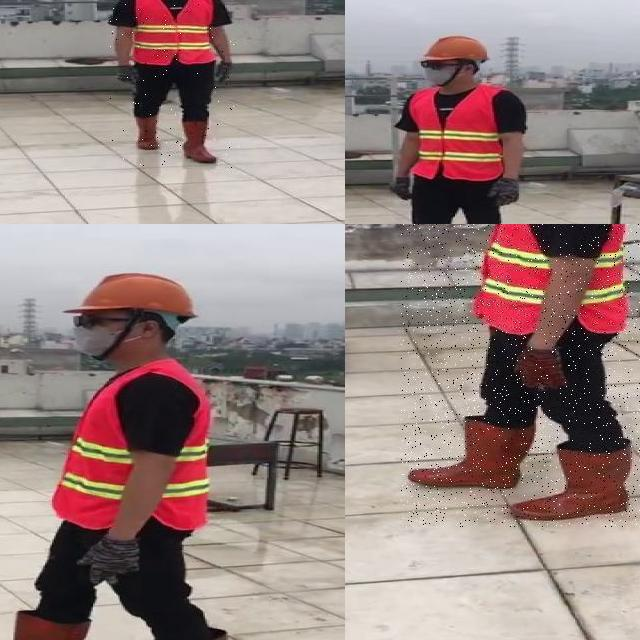BOOTS: (405, 416, 533, 489), (516, 450, 632, 522), (0, 612, 90, 640), (183, 120, 218, 162), (133, 112, 162, 151)
GLASS: (72, 314, 131, 330), (420, 57, 465, 71)
GLOVE: (77, 532, 144, 585), (516, 344, 570, 400), (490, 177, 520, 208), (389, 177, 414, 202), (118, 65, 141, 86), (215, 60, 233, 84)
HELMET: (73, 269, 197, 319), (423, 35, 493, 63)
VEST: (49, 361, 207, 529), (477, 224, 629, 334), (409, 86, 505, 179), (133, 0, 215, 66)
